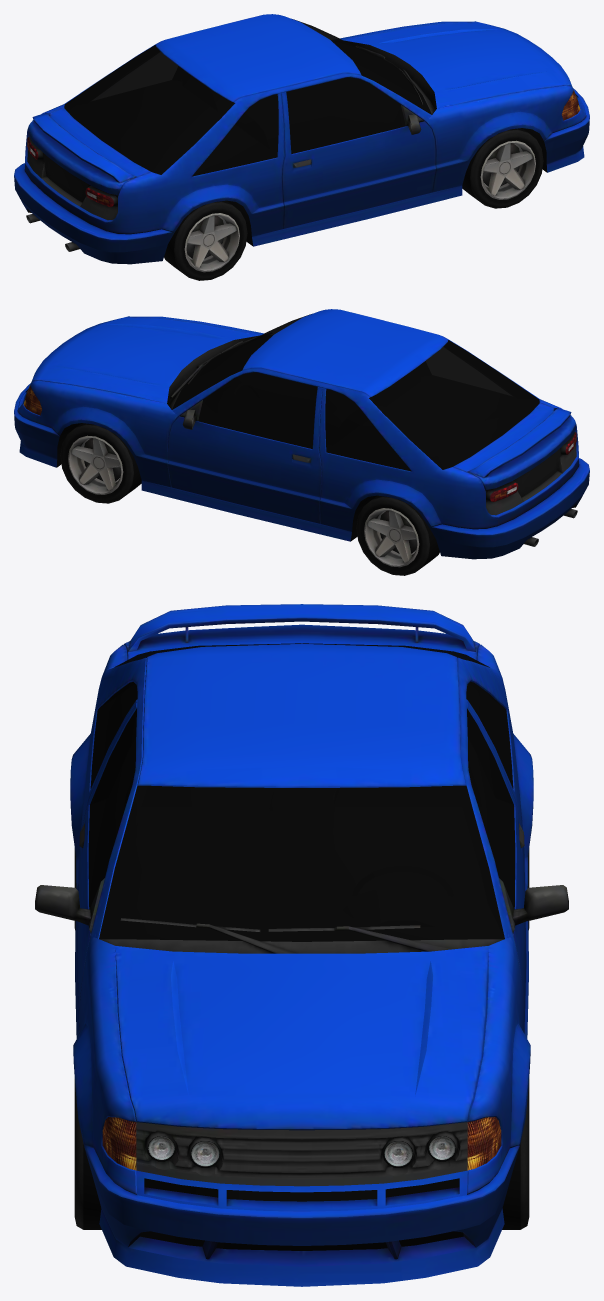
Rendered from gcoupe.glb.
3 views of the same model, one above another, from view 1: azimuth 30°, elevation 25°; view 2: azimuth 150°, elevation 25°; view 3: azimuth 270°, elevation 25° (orthographic). The views are drawn at different scales.
Visible parts, largest first — view 1: body, spin_RR, spin_FR; view 2: body, spin_RL, spin_FL; view 3: body, spin_FL, spin_FR.
Boxes of the visible parts, x1,y1,x2,y2 form: body: (14,14,589,264); spin_RR: (164,200,247,280); spin_FR: (462,128,543,208); body: (14,309,589,559); spin_RL: (356,495,439,575); spin_FL: (60,423,141,503); body: (35,604,568,1286); spin_FL: (502,1079,529,1229); spin_FR: (74,1079,101,1229).
Size of the model in its own units: 4.3 by 1.3 by 1.91.
Materials: 4 (3 with a texture image).
